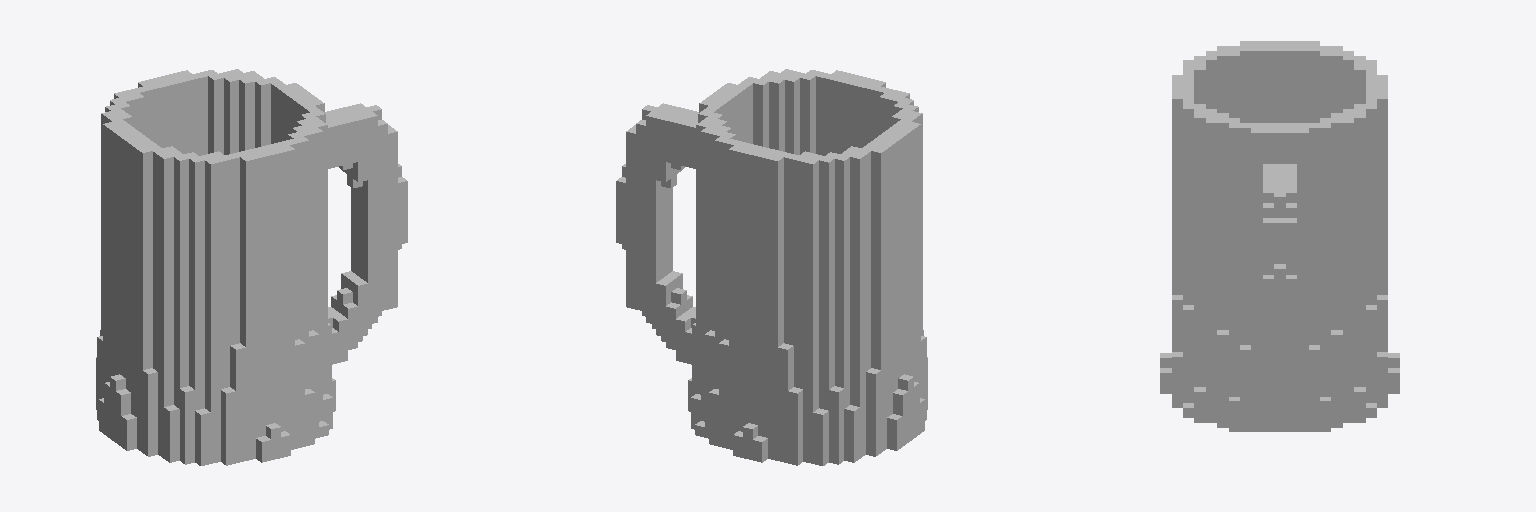
Rendered from BeerMug.obj.
The picture shows the model from 3 angles: view 1: azimuth 30°, elevation 25°; view 2: azimuth 150°, elevation 25°; view 3: azimuth 270°, elevation 25°; orthographic projection.
Parts seen in each view (by area): view 1: Cylinder_Cylinder.001; view 2: Cylinder_Cylinder.001; view 3: Cylinder_Cylinder.001.
Part boxes in pixels (bbox=[...]): Cylinder_Cylinder.001: bbox=[96, 69, 407, 465]; Cylinder_Cylinder.001: bbox=[616, 69, 927, 465]; Cylinder_Cylinder.001: bbox=[1160, 41, 1399, 431].
Size of the model in its own units: 0.7732 by 0.7732 by 0.5599.